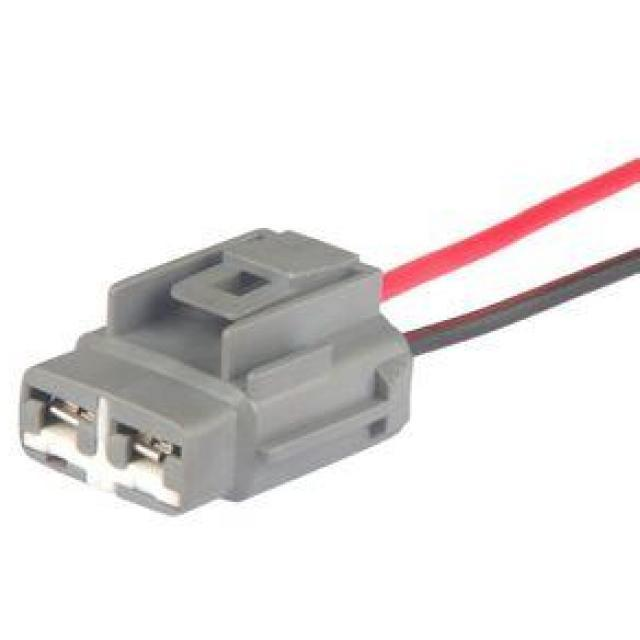connector: (0, 195, 437, 564)
